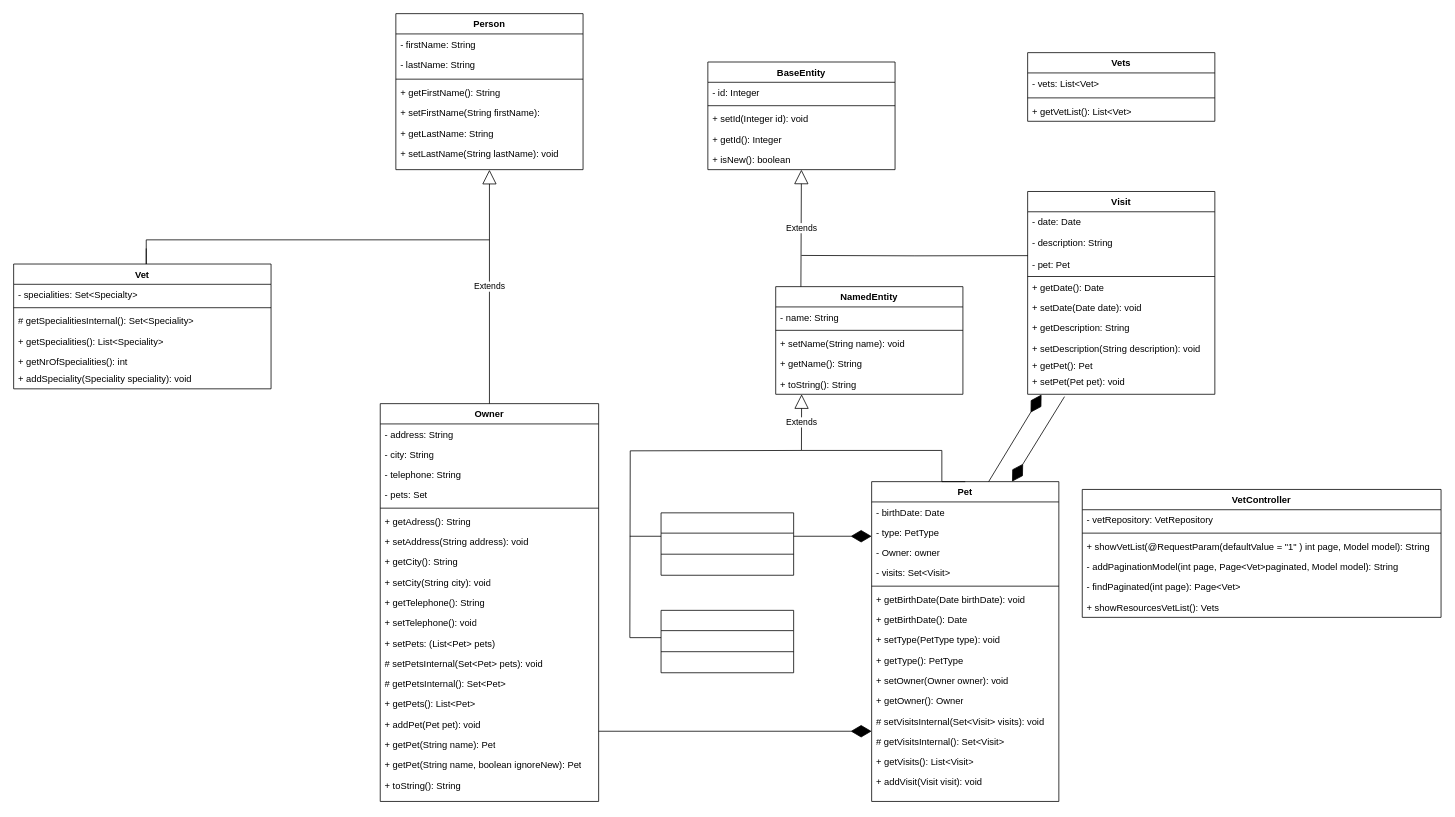
Image size: 1455x817. Some labels were removed from this diagram. Here are the shapes that lost their labels. From the top down, the centre of each, then its label:
point (727, 543): PetType
point (727, 641): Speciality
